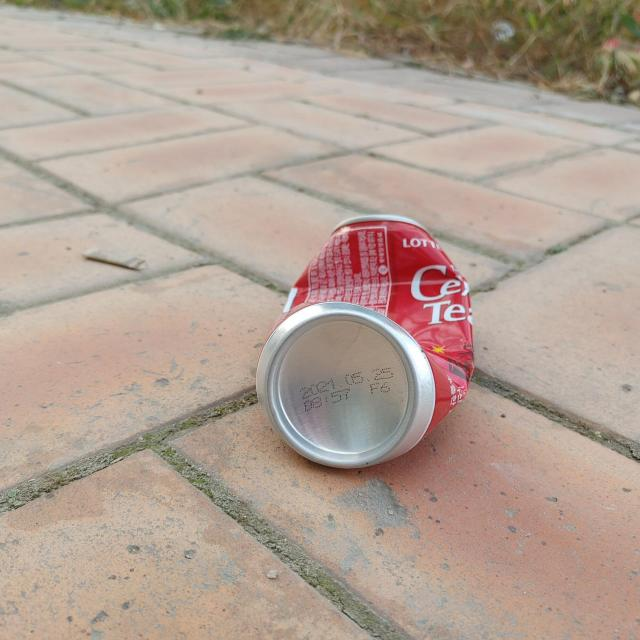can: (256, 214, 474, 468)
